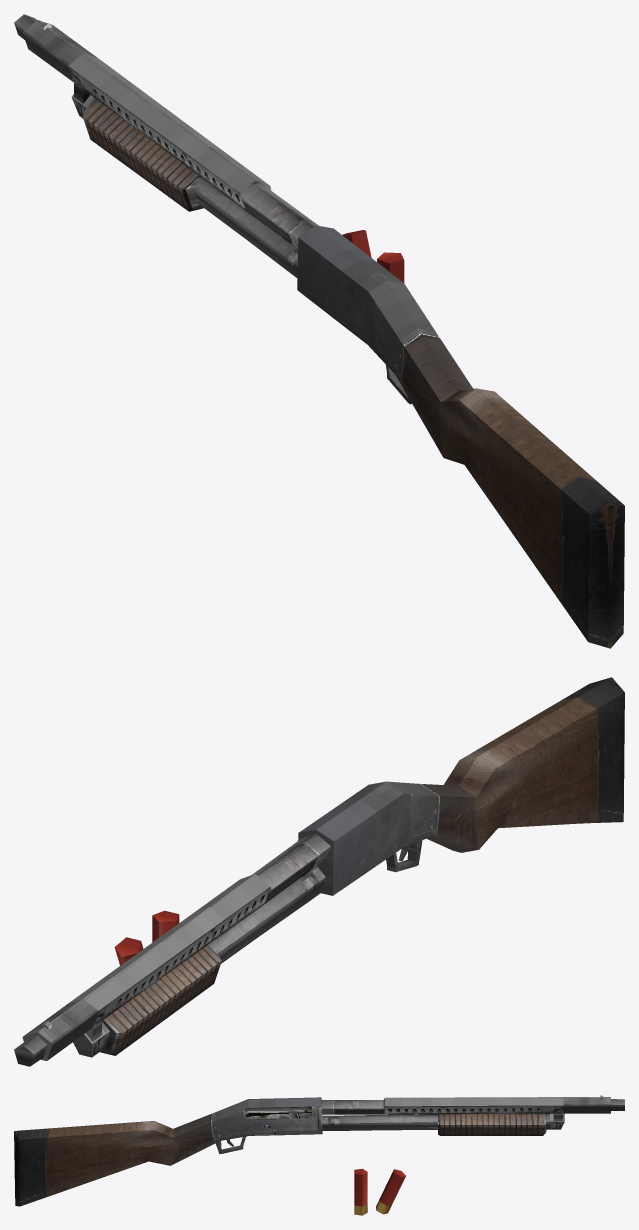
The picture shows the model from 3 angles, top to bottom: view 1: azimuth 30°, elevation 25°; view 2: azimuth 150°, elevation 25°; view 3: azimuth 270°, elevation 25°; orthographic projection. The views are drawn at different scales.
Visible parts, largest first — view 1: gun, load_thingy; view 2: gun, load_thingy, shell; view 3: gun, load_thingy, shell.001, shell.
Part boxes in pixels (left/top/right/bottom): gun: left=14, top=14, right=624, bottom=648; load_thingy: left=82, top=99, right=203, bottom=211; gun: left=14, top=677, right=624, bottom=1066; load_thingy: left=100, top=945, right=221, bottom=1055; shell: left=152, top=910, right=179, bottom=942; gun: left=14, top=1095, right=624, bottom=1206; load_thingy: left=438, top=1113, right=546, bottom=1135; shell.001: left=376, top=1169, right=405, bottom=1214; shell: left=354, top=1168, right=367, bottom=1215.
Bounding box in the file's own units: 0.686 × 0.9655 × 4.83.
Materials: 2 (2 with a texture image).
